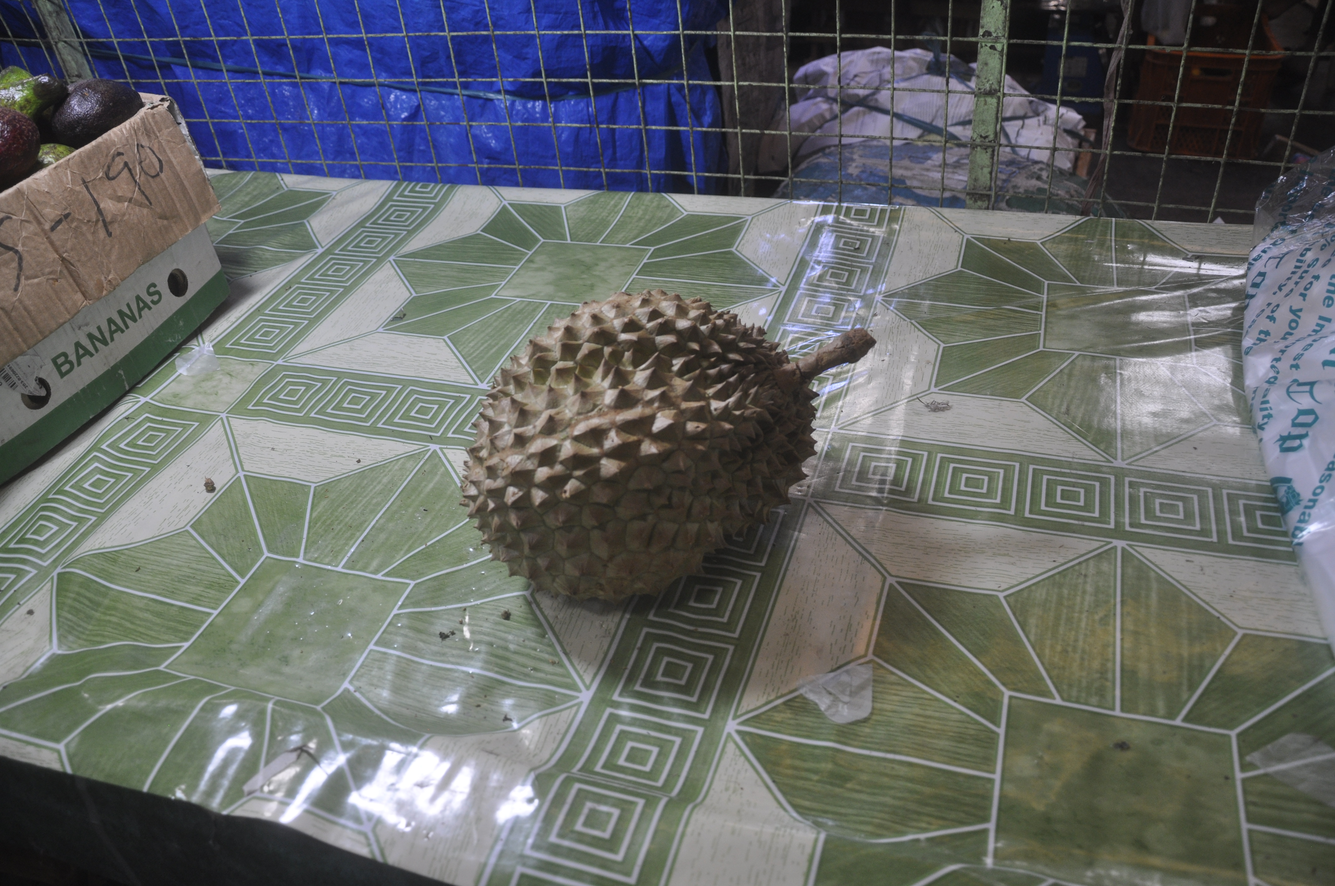mature: (462, 290, 875, 602)
